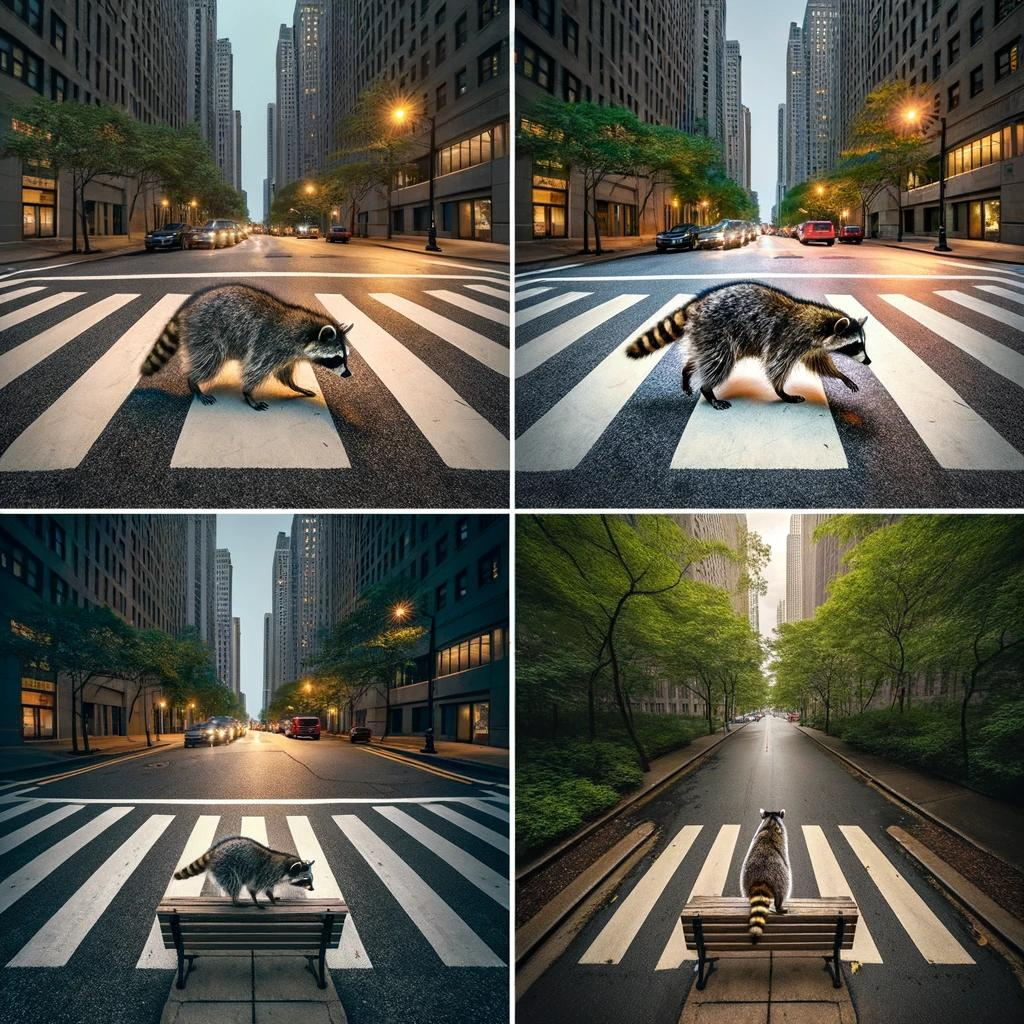raccoon: (618, 272, 878, 410), (128, 275, 362, 413), (167, 828, 323, 907), (735, 798, 798, 948)
